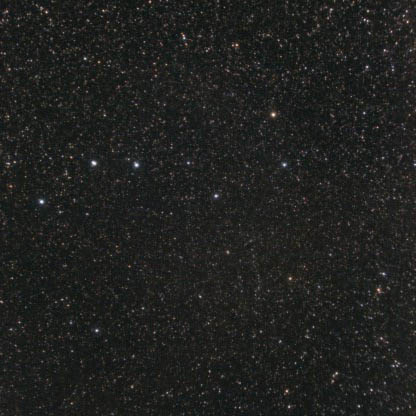Ursa Major: (275, 152, 294, 174), (177, 154, 197, 173), (205, 184, 225, 203), (261, 104, 280, 123), (84, 155, 105, 172), (33, 192, 48, 213), (126, 154, 144, 171)
